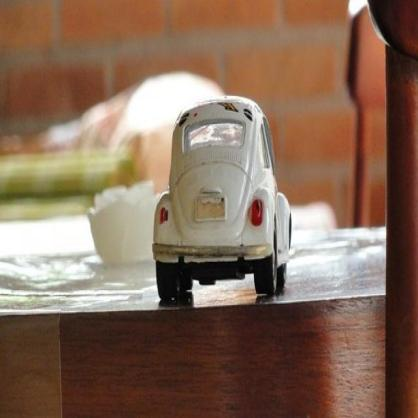car: (154, 94, 295, 305)
